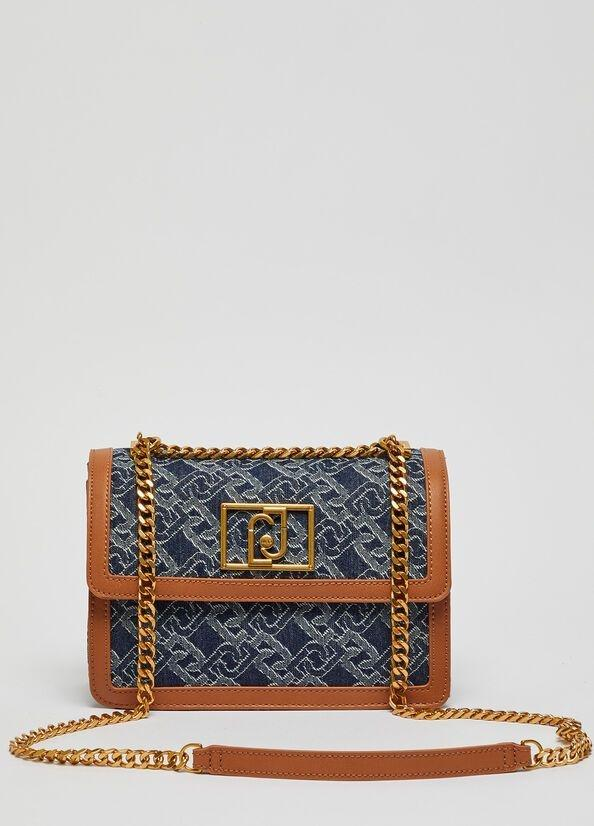LIU-JO: (247, 506, 288, 566)
